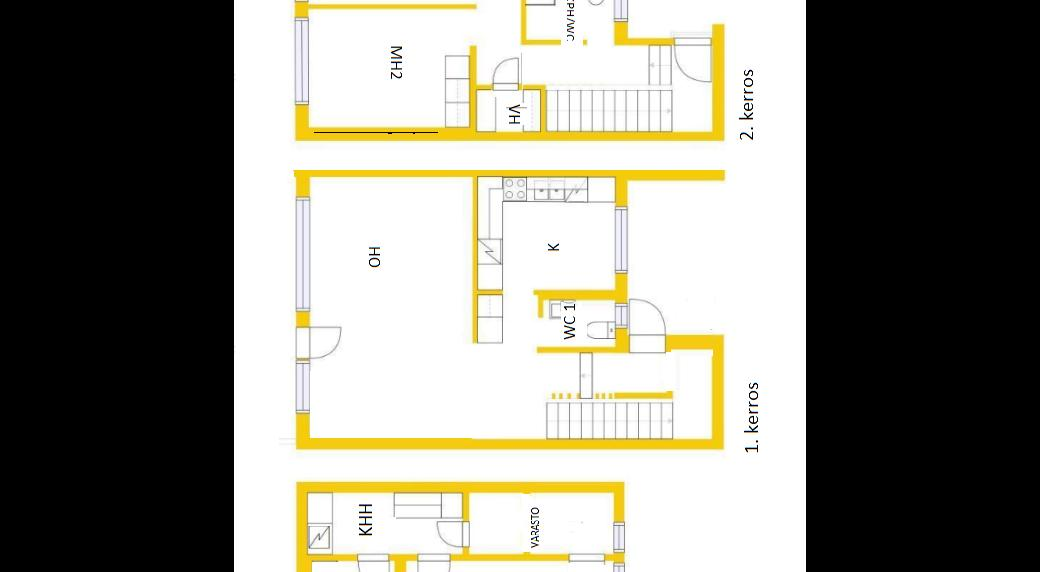door: (670, 29, 713, 85), (627, 297, 668, 352), (296, 322, 346, 362), (488, 53, 522, 93), (434, 518, 471, 550), (354, 548, 394, 572), (413, 550, 454, 572)
window: (292, 194, 314, 316), (292, 12, 315, 108), (610, 201, 635, 278), (291, 357, 316, 422), (611, 512, 632, 557), (610, 0, 631, 32), (612, 299, 630, 332), (610, 558, 628, 572)
